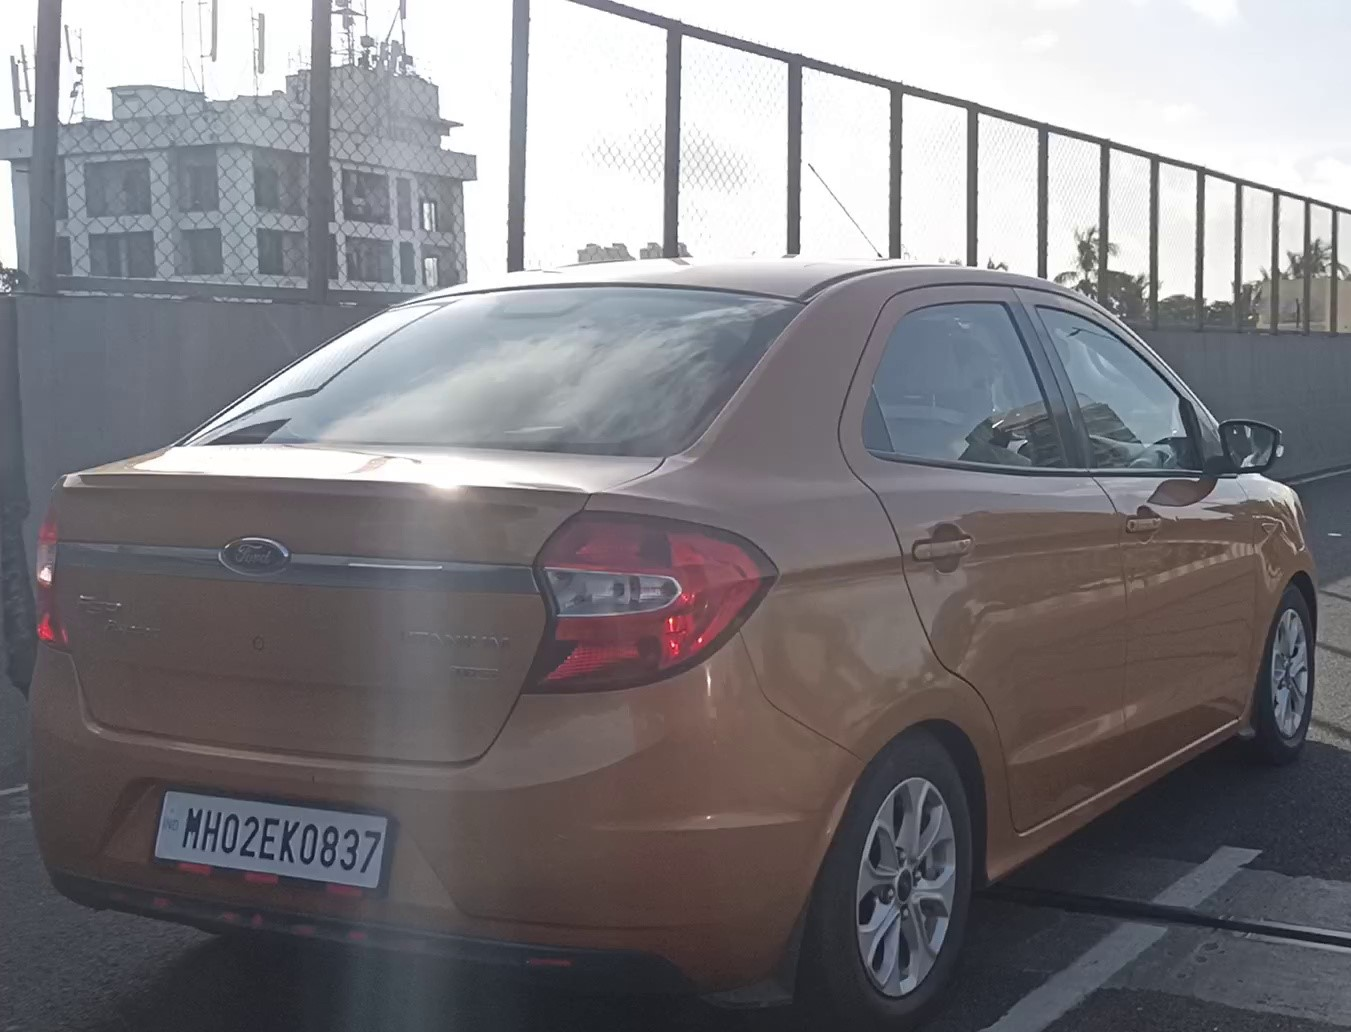MH02EK0837: (151, 787, 386, 886)
